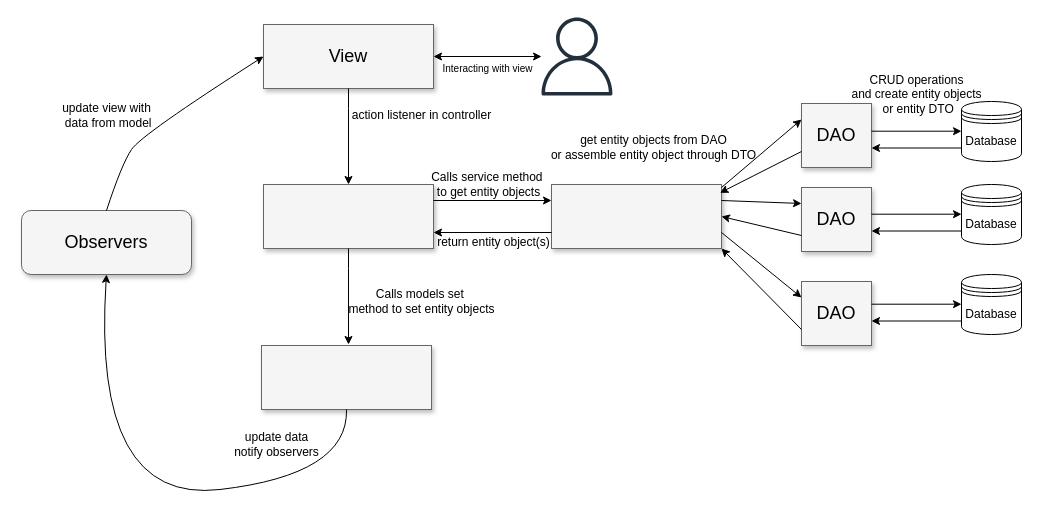
This 1039x508 diagram has some shape labels left out. The centre of each missing label's shape, as x and y in pixels:
"Controller" belongs at (349,218).
"Model" belongs at (347,378).
"Service" belongs at (637,218).
"User" belongs at (577,56).
